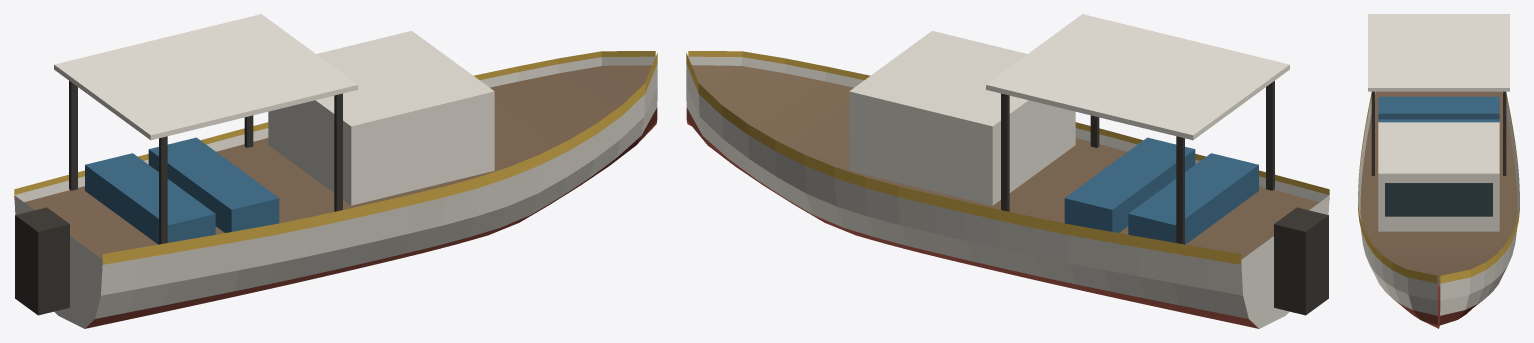
File: deniz-taksisi.glb
The picture shows the model from 3 angles, left to right: view 1: azimuth 30°, elevation 25°; view 2: azimuth 150°, elevation 25°; view 3: azimuth 270°, elevation 25°; orthographic projection. The views are drawn at different scales.
Parts seen in each view (by area): view 1: tekne_beyaz, yelken, ahsap, tekne_mavi, demir, tekne_sari, karina; view 2: tekne_beyaz, yelken, ahsap, tekne_mavi, demir, tekne_sari, karina; view 3: tekne_beyaz, yelken, ahsap, cam, tekne_mavi, tekne_sari, karina, demir.
Part boxes in pixels (box(x1,y1,x2,y2)): tekne_beyaz: box(14, 31, 657, 328); yelken: box(54, 14, 357, 140); ahsap: box(24, 65, 652, 259); tekne_mavi: box(85, 137, 279, 244); demir: box(15, 81, 342, 315); tekne_sari: box(14, 51, 657, 264); karina: box(85, 107, 657, 328); tekne_beyaz: box(686, 31, 1329, 328); yelken: box(986, 14, 1289, 140); ahsap: box(691, 65, 1319, 259); tekne_mavi: box(1064, 137, 1258, 244); demir: box(1001, 81, 1328, 315); tekne_sari: box(686, 51, 1329, 264); karina: box(686, 107, 1258, 328); tekne_beyaz: box(1358, 91, 1519, 315); yelken: box(1368, 14, 1509, 91); ahsap: box(1360, 91, 1517, 286); cam: box(1385, 183, 1492, 216); tekne_mavi: box(1378, 96, 1499, 122); tekne_sari: box(1358, 93, 1519, 283); karina: box(1393, 286, 1484, 328); demir: box(1371, 91, 1506, 175).
Bounding box in the file's own units: 7.9 × 2.46 × 2.4.
